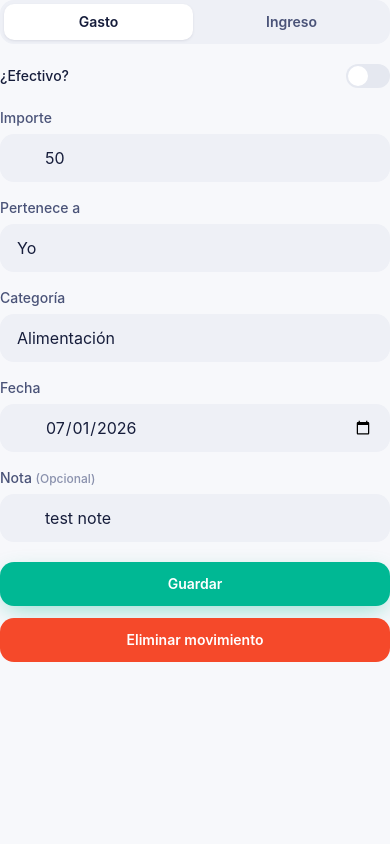
Test: TransactionForm › muestra el botón de eliminar y elimina al confirmar
The image size is (390, 844).
// Abre el diálogo
Click the button "Eliminar movimiento".
click(195, 640)  # box [0,618,389,662]
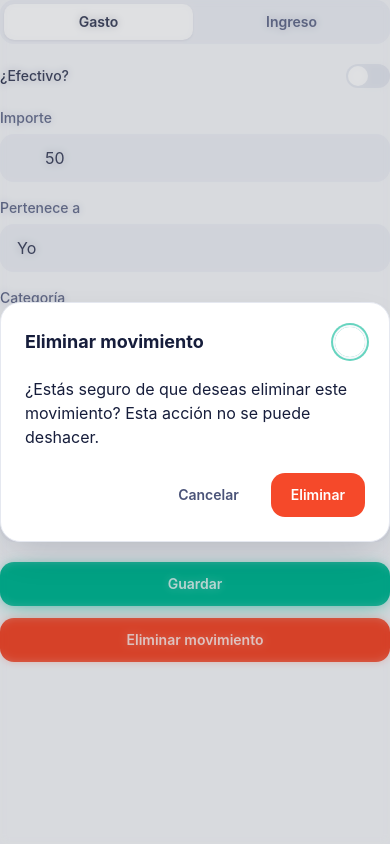
Expected: the dialog is shown, [0,302,389,542]
